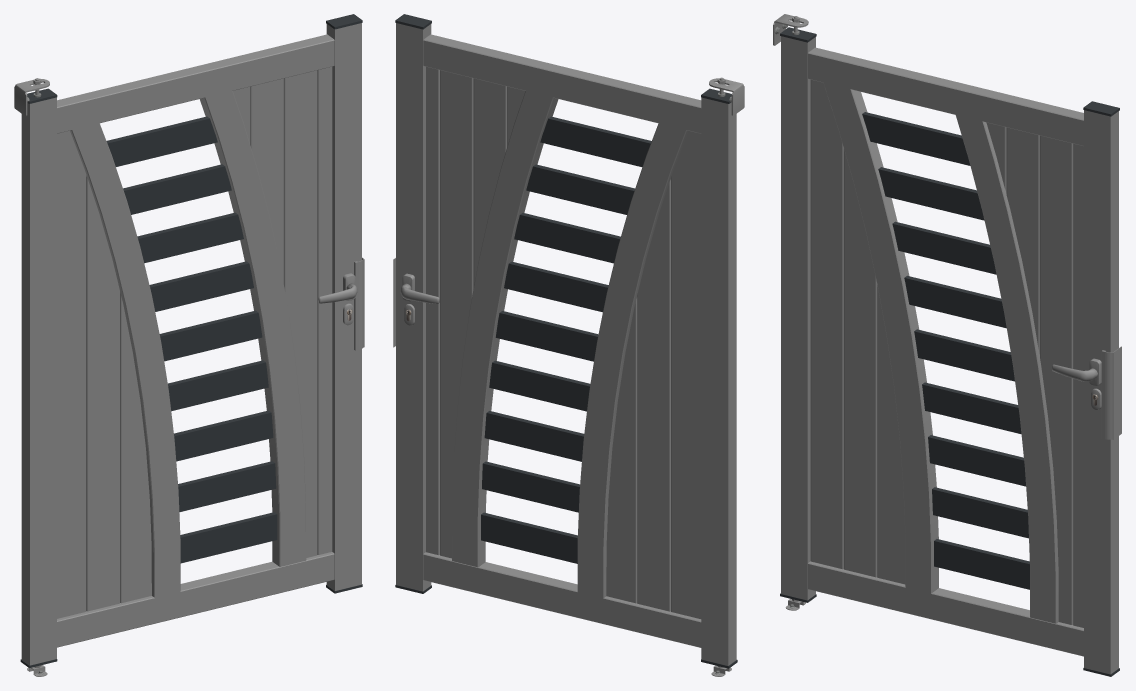
The picture shows the model from 3 angles, left to right: view 1: azimuth 30°, elevation 25°; view 2: azimuth 150°, elevation 25°; view 3: azimuth 330°, elevation 25°; orthographic projection.
Parts seen in each view (by area): view 1: lamina (×7), montanteVertical (×2), travessas, Shape107412643, montante (×2), Shape107412638, Shape107412637, Rectangle057; view 2: lamina (×7), montanteVertical (×2), travessas, Shape107412643, montante (×2), Shape107412638, Rectangle057; view 3: lamina (×7), montanteVertical (×2), travessas, Shape107412638, montante (×2), Shape107412643, Shape107412637.
Boxes of the visible parts, x1=… form: lamina (×7): x1=57, y1=66, x2=332, y2=618; montanteVertical (×2): x1=70, y1=78, x2=306, y2=597; travessas: x1=106, y1=116, x2=277, y2=563; Shape107412643: x1=21, y1=97, x2=56, y2=665; montante (×2): x1=57, y1=34, x2=334, y2=647; Shape107412638: x1=326, y1=23, x2=361, y2=590; Shape107412637: x1=354, y1=257, x2=364, y2=350; Rectangle057: x1=14, y1=78, x2=49, y2=116; lamina (×7): x1=426, y1=66, x2=701, y2=618; montanteVertical (×2): x1=452, y1=91, x2=687, y2=599; travessas: x1=481, y1=116, x2=651, y2=563; Shape107412643: x1=701, y1=97, x2=736, y2=665; montante (×2): x1=423, y1=34, x2=701, y2=647; Shape107412638: x1=396, y1=23, x2=431, y2=591; Rectangle057: x1=709, y1=78, x2=744, y2=115; lamina (×7): x1=810, y1=79, x2=1083, y2=627; montanteVertical (×2): x1=823, y1=76, x2=1058, y2=623; travessas: x1=862, y1=112, x2=1029, y2=589; Shape107412638: x1=1084, y1=110, x2=1118, y2=674; montante (×2): x1=808, y1=47, x2=1083, y2=656; Shape107412643: x1=781, y1=36, x2=815, y2=600; Shape107412637: x1=1101, y1=346, x2=1121, y2=439.
Bounding box in the file's own units: 1015 × 1688 × 152.
7 materials, 4 textured.
